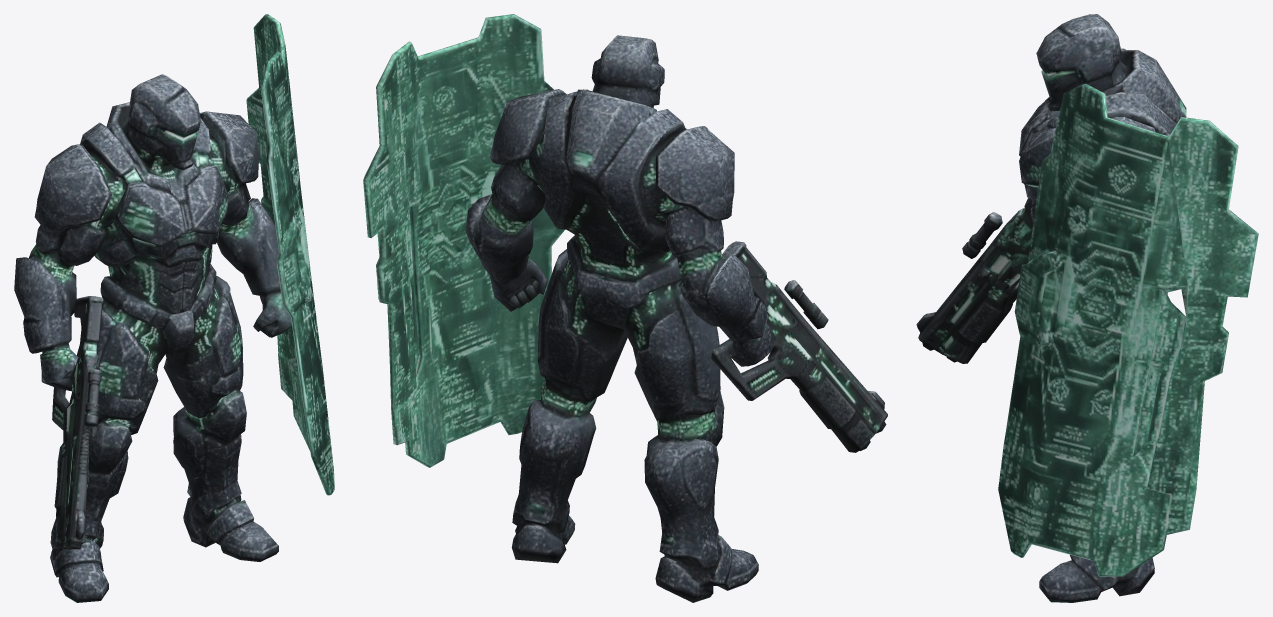
Rendered from infanterie_tripo.glb.
3 views of the same model, side by side, from view 1: azimuth 30°, elevation 25°; view 2: azimuth 150°, elevation 25°; view 3: azimuth 270°, elevation 25° (orthographic). The views are drawn at different scales.
Parts seen in each view (by area): view 1: tripo_node_88d2f16c-bfd9-4ba7-8eae-777c2af3ec3d; view 2: tripo_node_88d2f16c-bfd9-4ba7-8eae-777c2af3ec3d; view 3: tripo_node_88d2f16c-bfd9-4ba7-8eae-777c2af3ec3d.
Part boxes in pixels (x1,y1,x2,y2): tripo_node_88d2f16c-bfd9-4ba7-8eae-777c2af3ec3d: (14,14,334,602); tripo_node_88d2f16c-bfd9-4ba7-8eae-777c2af3ec3d: (363,14,887,602); tripo_node_88d2f16c-bfd9-4ba7-8eae-777c2af3ec3d: (916,14,1258,602).
Bounding box in the file's own units: 0.7339 × 0.9995 × 0.5864.
Materials: 1 (1 with a texture image).
